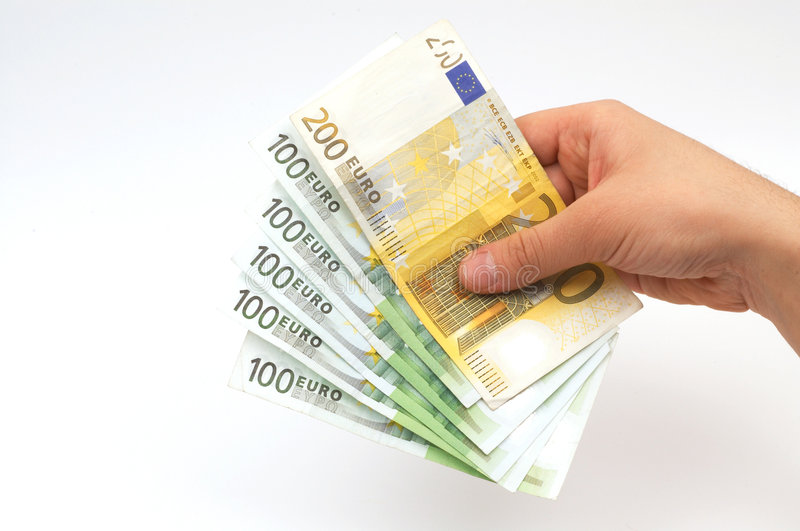billete: (221, 21, 648, 502)
